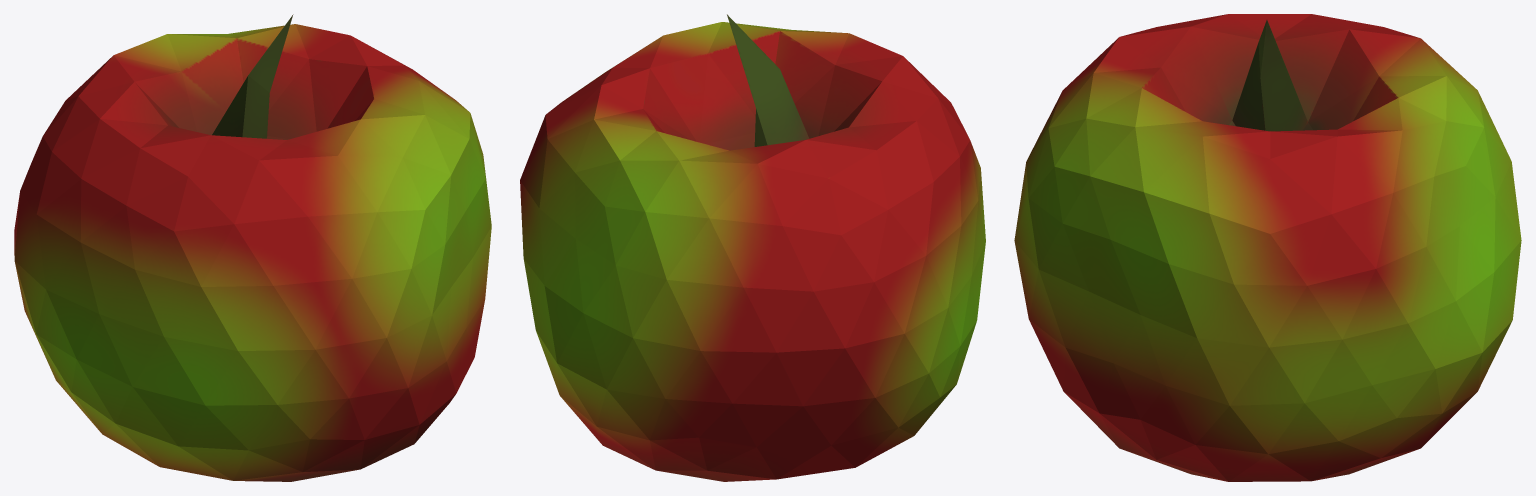
File: Blender.glb
3 views of the same model, side by side, from view 1: azimuth 30°, elevation 25°; view 2: azimuth 150°, elevation 25°; view 3: azimuth 270°, elevation 25° (orthographic). The views are drawn at different scales.
Visible parts, largest first — view 1: Icosphere; view 2: Icosphere; view 3: Icosphere.
Boxes of the visible parts, x1=… form: Icosphere: x1=14, y1=14, x2=491, y2=481; Icosphere: x1=520, y1=14, x2=985, y2=481; Icosphere: x1=1014, y1=14, x2=1521, y2=481.
Bounding box in the file's own units: 1.95 × 1.82 × 1.98.
Materials: 1 (1 with a texture image).
